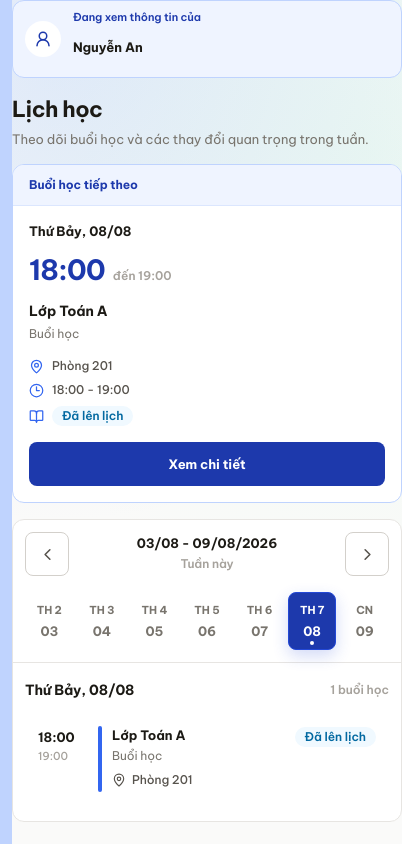
Test: ViewerSchedulePage agenda workflow › uses the shared persisted student selection
Select "Trần Bình" in the dropdown labelled "Đang xem thông tin của" at (231, 47), box 73,25 -> 389,69
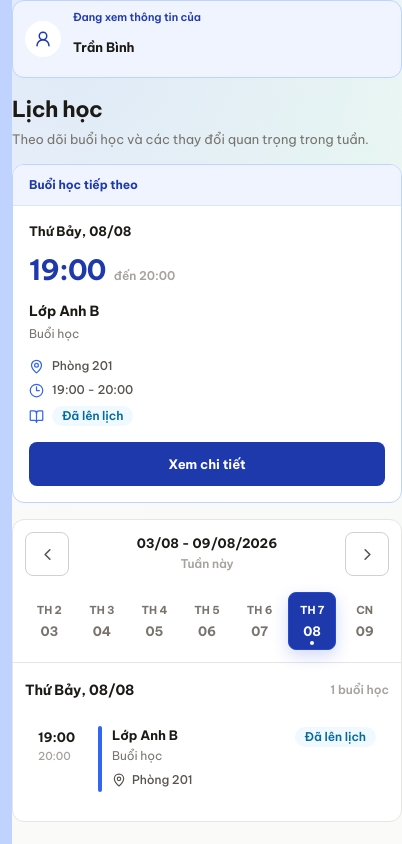
Check: the button "Lớp Anh B" is shown, box 25,713 -> 389,805
Check: no headings "Lớp Toán A" are shown
